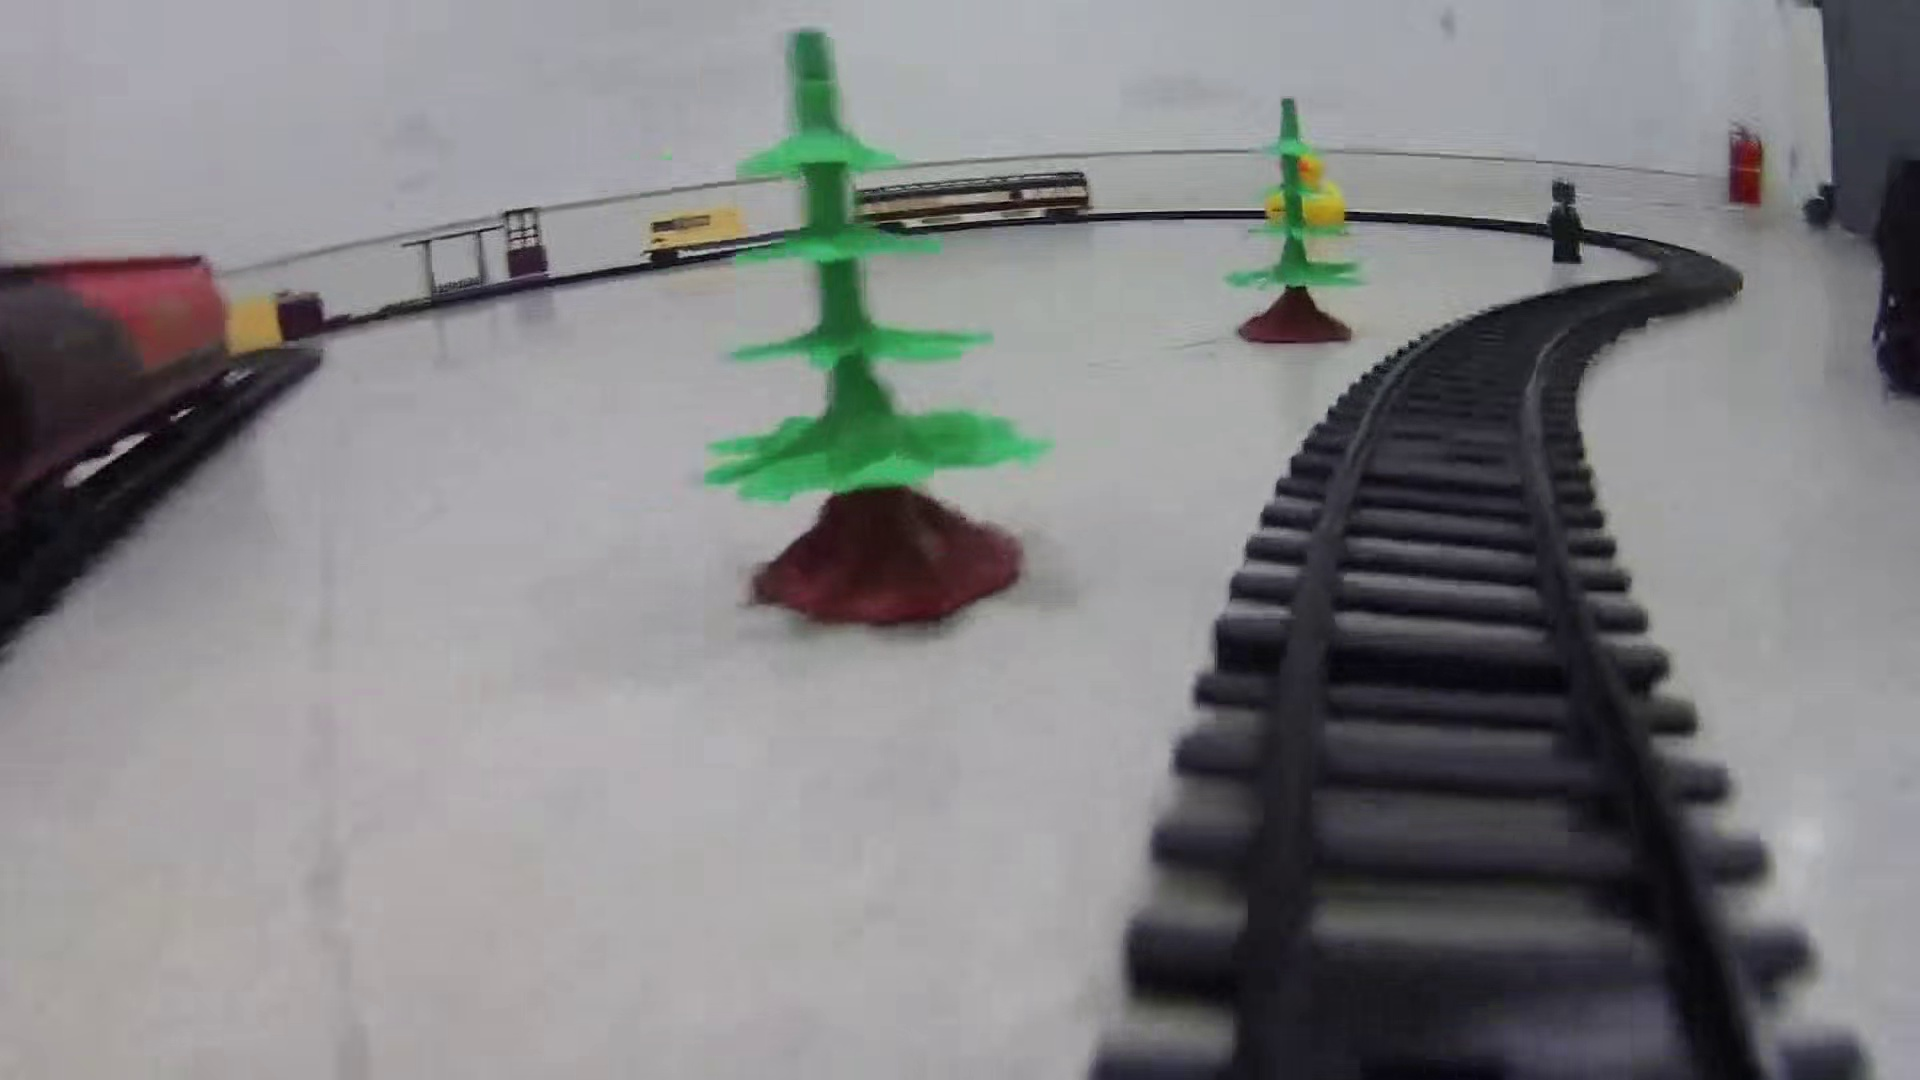people: (1540, 177, 1591, 268)
tree: (694, 25, 1052, 633), (1225, 94, 1360, 345)
